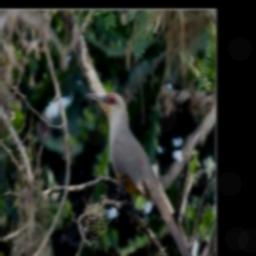Cuckoo: (83, 88, 202, 256)
